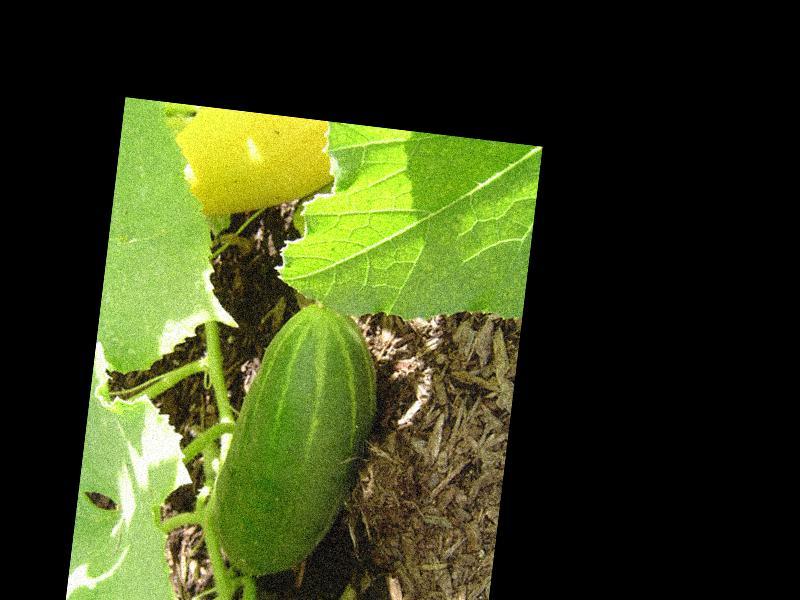Cucumber: (204, 293, 389, 588)
